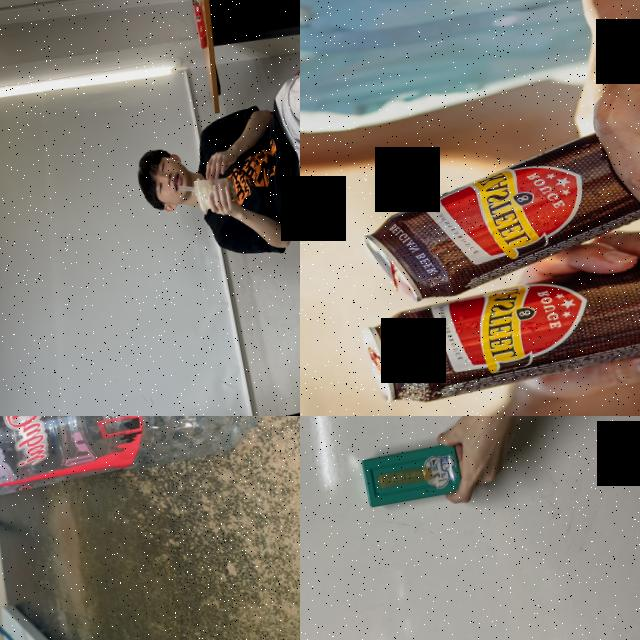bottle: (0, 416, 279, 559)
can: (349, 124, 640, 309), (355, 235, 640, 410)
cup: (192, 170, 240, 213)
